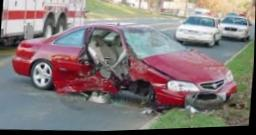Door: (85, 26, 128, 87)
Windshield: (123, 28, 191, 58)
